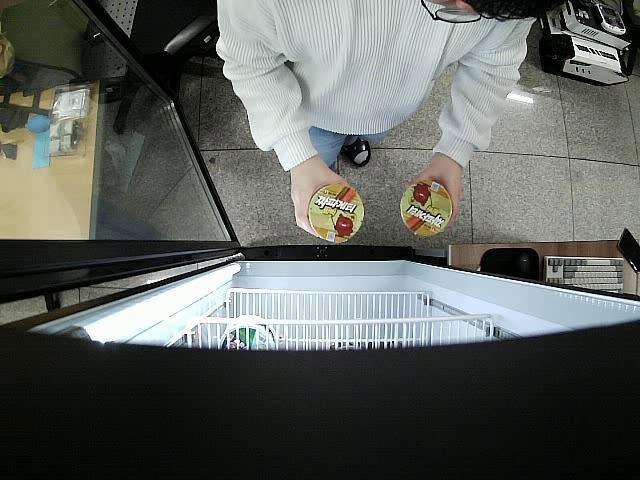04_chapagetti_S: (308, 183, 364, 242), (401, 181, 453, 235)
